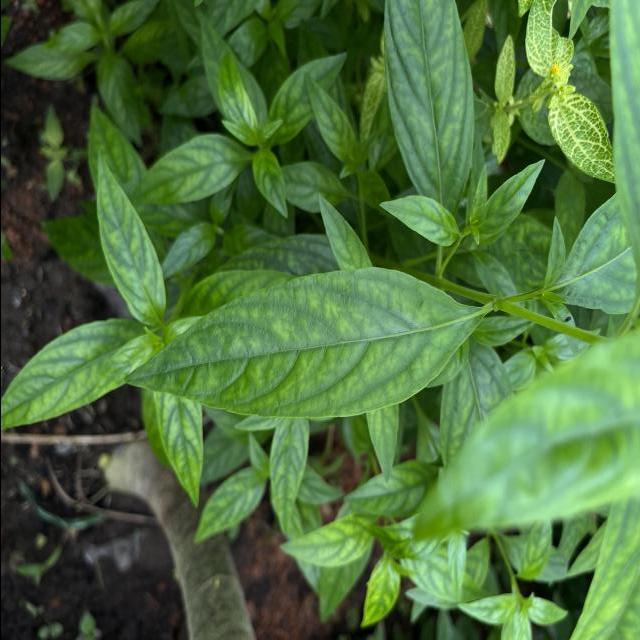Andrographis paniculata: (122, 264, 484, 423), (382, 0, 475, 201), (0, 322, 151, 423), (94, 146, 166, 324), (196, 7, 268, 140), (132, 132, 248, 205), (269, 50, 349, 136), (475, 156, 547, 242), (191, 468, 266, 546), (277, 515, 374, 566), (269, 414, 308, 537), (379, 192, 463, 248)
